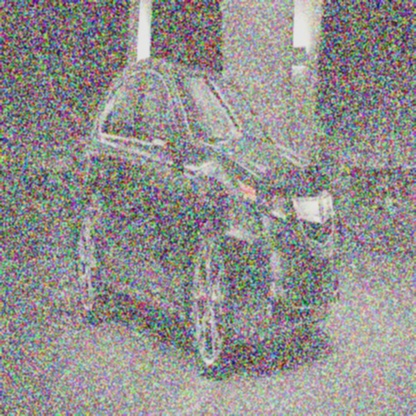Vehicle: (68, 56, 345, 378)
